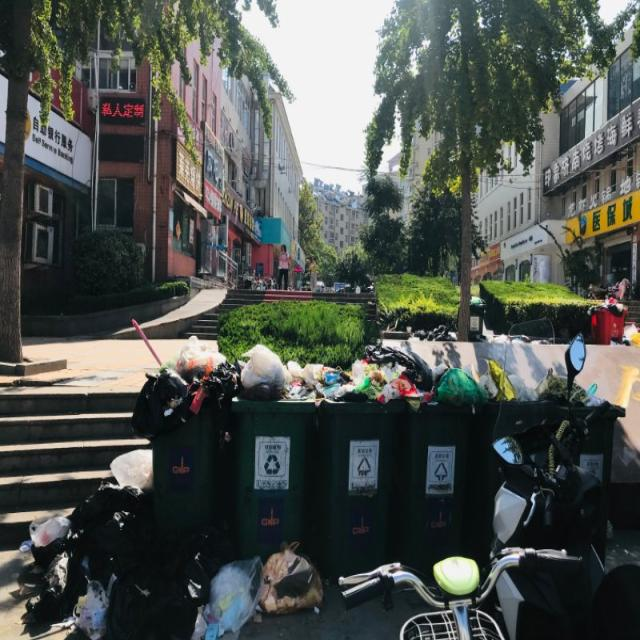garbage: (19, 446, 322, 639)
overflow: (231, 341, 316, 560), (321, 360, 402, 577), (405, 350, 482, 576), (153, 333, 231, 535), (549, 369, 625, 566)
